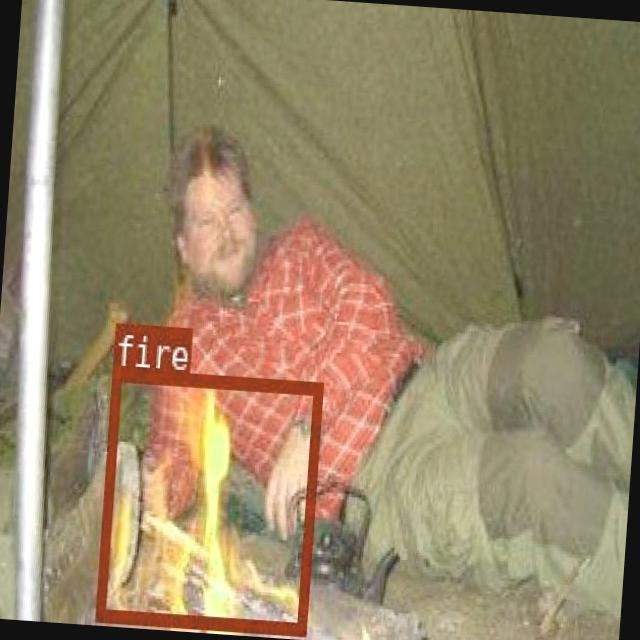fire: (94, 366, 321, 633)
